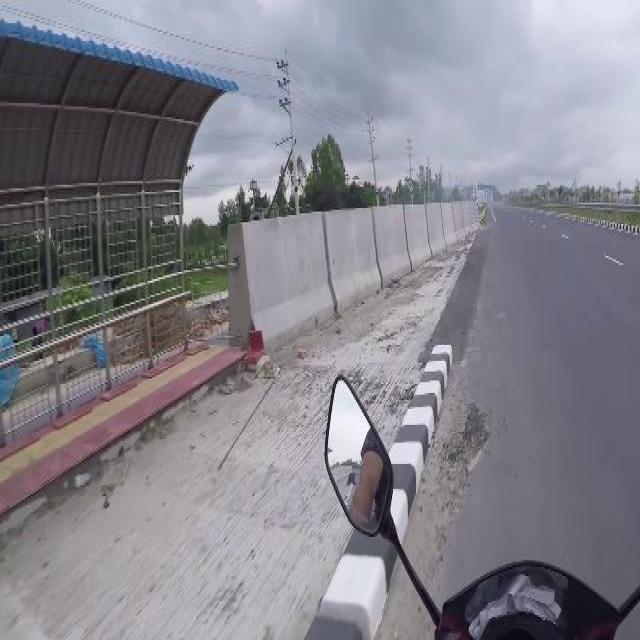motorcycle: (322, 366, 639, 636)
